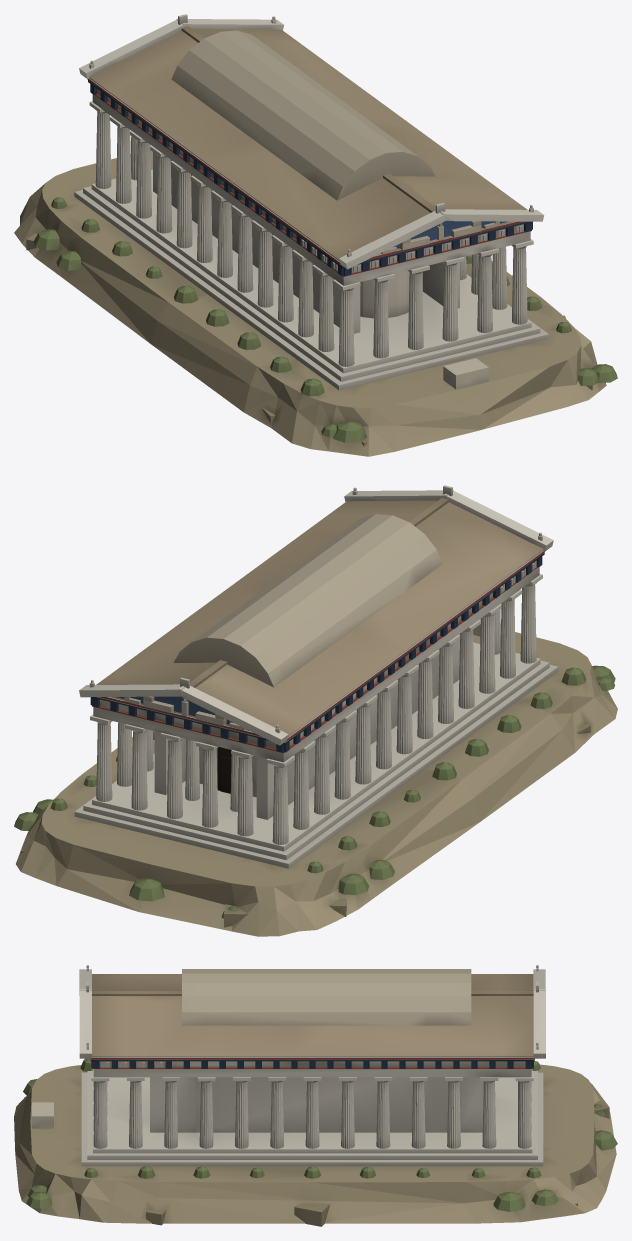
Rendered from hephaisteion-church.glb.
3 views of the same model, one above another, from view 1: azimuth 30°, elevation 25°; view 2: azimuth 150°, elevation 25°; view 3: azimuth 270°, elevation 25° (orthographic). The views are drawn at different scales.
Parts seen in each view (by area): view 1: p0_base, p3_roof, p1_columns, p2_entablature; view 2: p0_base, p3_roof, p1_columns, p2_entablature; view 3: p0_base, p3_roof, p1_columns, p2_entablature.
Boxes of the visible parts, x1,y1,x2,y2 form: p0_base: (14, 150, 617, 456); p3_roof: (79, 14, 544, 269); p1_columns: (89, 101, 533, 389); p2_entablature: (87, 77, 532, 285); p0_base: (14, 632, 617, 936); p3_roof: (79, 485, 553, 793); p1_columns: (90, 574, 542, 844); p2_entablature: (90, 550, 544, 762); p0_base: (14, 1058, 617, 1226); p3_roof: (79, 965, 545, 1058); p1_columns: (32, 1070, 533, 1148); p2_entablature: (90, 1056, 534, 1077).
Bounding box in the file's own units: 24.39 × 14.42 × 43.66.
